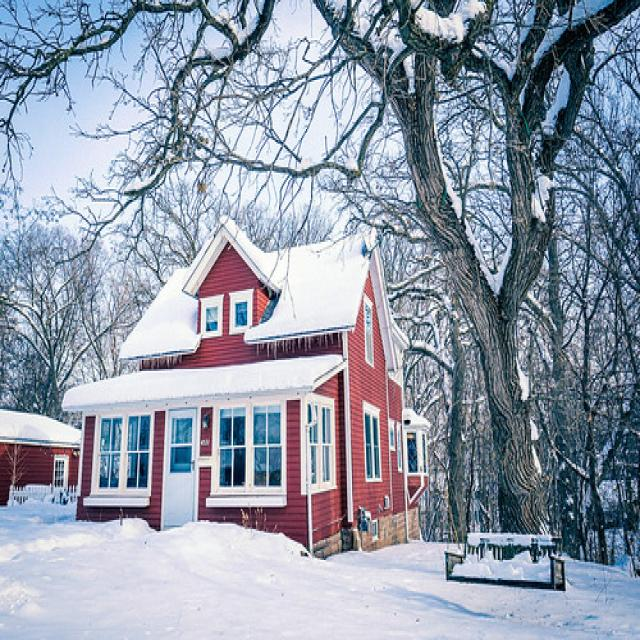Normal_building: (59, 210, 434, 563)
